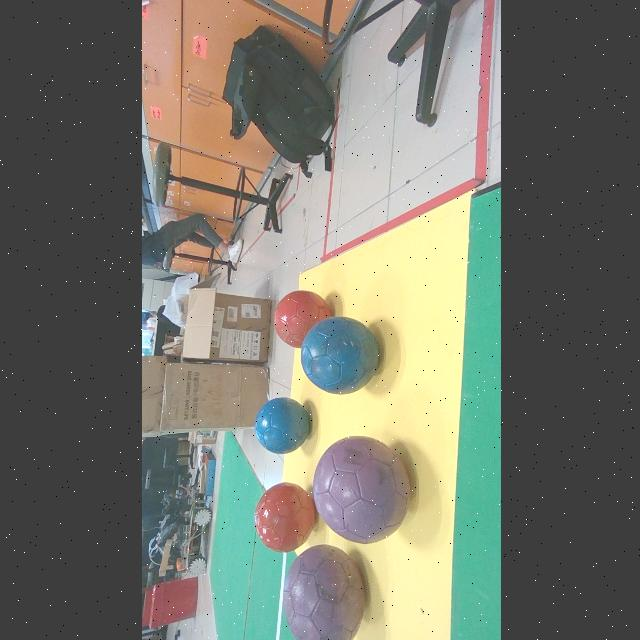B: (299, 316, 377, 394), (253, 398, 307, 454)
P: (311, 437, 408, 544), (282, 545, 362, 640)
R: (254, 483, 314, 553), (272, 291, 329, 348)
